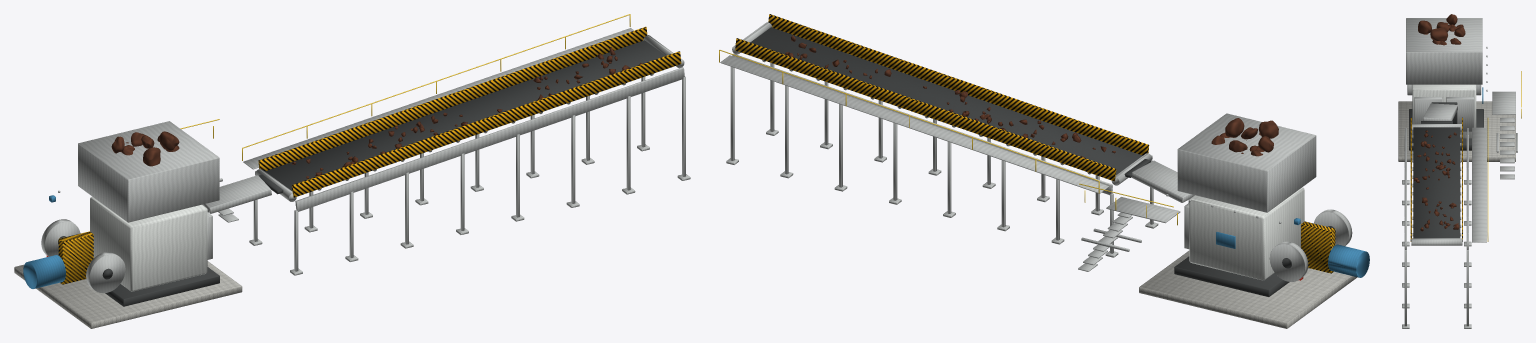
Rendered from Level2_OreCrusher_IndustrialUV_v3.fbx.
3 views of the same model, side by side, from view 1: azimuth 30°, elevation 25°; view 2: azimuth 150°, elevation 25°; view 3: azimuth 270°, elevation 25° (orthographic). The views are drawn at different scales.
Visible parts, largest first — view 1: L2_V2_SuperJumbo_Flared_Ore_Hopper, L2_V2_Wide_Inclined_Rubber_Ore_Belt, L2_V2_Rounded_Primary_Crusher_Body, L2_V2_Right_Tall_Yellow_Side_Skirt, L2_V2_Left_Tall_Yellow_Side_Skirt, L2_V2_Right_Deep_Main_Truss, L2_V2_Jumbo_Concrete_Service_Pad, L2_V2_Wide_Maint_Catwalk, L2_V2_Jumbo_Black_Skid_Base, L2_V2_Curved_Style_Hazard_Belt_Guard, L2_V2_Heavy_Discharge_Chute_To_Belt, L2_V2_Jumbo_Flywheel_B_Smooth (+3 smaller); view 2: L2_V2_SuperJumbo_Flared_Ore_Hopper, L2_V2_Wide_Inclined_Rubber_Ore_Belt, L2_V2_Rounded_Primary_Crusher_Body, L2_V2_Jumbo_Concrete_Service_Pad, L2_V2_Left_Tall_Yellow_Side_Skirt, L2_V2_Right_Tall_Yellow_Side_Skirt, L2_V2_Wide_Maint_Catwalk, L2_V2_Jumbo_Black_Skid_Base, L2_V2_Curved_Style_Hazard_Belt_Guard, L2_V2_Left_Deep_Main_Truss, L2_V2_Heavy_Discharge_Chute_To_Belt, L2_V2_Jumbo_Flywheel_A_Smooth (+5 smaller); view 3: L2_V2_Wide_Inclined_Rubber_Ore_Belt, L2_V2_SuperJumbo_Flared_Ore_Hopper, L2_V2_Jumbo_Concrete_Service_Pad, L2_V2_Wide_Maint_Catwalk, L2_V2_Rounded_Primary_Crusher_Body, L2_V2_Left_Smooth_Jaw_Liner, L2_V2_Jumbo_Service_Platform_Grating, L2_V2_Heavy_Discharge_Chute_To_Belt, L2_V2_Right_Smooth_Jaw_Liner, L2_V2_Smooth_Head_Pulley, L2_V2_Jumbo_Black_Skid_Base, L2_V2_Right_Tall_Yellow_Side_Skirt (+11 smaller).
Boxes of the visible parts, x1,y1,x2,y2 form: L2_V2_SuperJumbo_Flared_Ore_Hopper: (78, 121, 219, 222); L2_V2_Wide_Inclined_Rubber_Ore_Belt: (265, 40, 665, 191); L2_V2_Rounded_Primary_Crusher_Body: (90, 196, 207, 291); L2_V2_Right_Tall_Yellow_Side_Skirt: (292, 51, 681, 197); L2_V2_Left_Tall_Yellow_Side_Skirt: (258, 26, 647, 171); L2_V2_Right_Deep_Main_Truss: (295, 67, 684, 211); L2_V2_Jumbo_Concrete_Service_Pad: (14, 261, 242, 328); L2_V2_Wide_Maint_Catwalk: (243, 28, 633, 169); L2_V2_Jumbo_Black_Skid_Base: (105, 267, 219, 306); L2_V2_Curved_Style_Hazard_Belt_Guard: (58, 231, 93, 284); L2_V2_Heavy_Discharge_Chute_To_Belt: (202, 175, 271, 213); L2_V2_Jumbo_Flywheel_B_Smooth: (86, 252, 125, 293); L2_V2_SuperJumbo_Flared_Ore_Hopper: (1177, 113, 1316, 212); L2_V2_Wide_Inclined_Rubber_Ore_Belt: (750, 27, 1142, 175); L2_V2_Rounded_Primary_Crusher_Body: (1189, 187, 1304, 280); L2_V2_Jumbo_Concrete_Service_Pad: (1139, 251, 1356, 328); L2_V2_Left_Tall_Yellow_Side_Skirt: (735, 38, 1116, 181); L2_V2_Right_Tall_Yellow_Side_Skirt: (768, 14, 1149, 155); L2_V2_Wide_Maint_Catwalk: (720, 55, 1109, 193); L2_V2_Jumbo_Black_Skid_Base: (1174, 256, 1308, 296); L2_V2_Curved_Style_Hazard_Belt_Guard: (1301, 221, 1335, 273); L2_V2_Left_Deep_Main_Truss: (732, 53, 1112, 195); L2_V2_Heavy_Discharge_Chute_To_Belt: (1131, 160, 1194, 202); L2_V2_Jumbo_Flywheel_A_Smooth: (1269, 241, 1308, 281); L2_V2_Wide_Inclined_Rubber_Ore_Belt: (1413, 127, 1460, 238); L2_V2_SuperJumbo_Flared_Ore_Hopper: (1406, 18, 1482, 84); L2_V2_Jumbo_Concrete_Service_Pad: (1398, 101, 1515, 161); L2_V2_Wide_Maint_Catwalk: (1472, 127, 1486, 242); L2_V2_Rounded_Primary_Crusher_Body: (1412, 84, 1476, 138); L2_V2_Left_Smooth_Jaw_Liner: (1446, 97, 1474, 131); L2_V2_Jumbo_Service_Platform_Grating: (1492, 91, 1515, 114); L2_V2_Heavy_Discharge_Chute_To_Belt: (1423, 103, 1457, 120); L2_V2_Right_Smooth_Jaw_Liner: (1414, 97, 1442, 123); L2_V2_Smooth_Head_Pulley: (1411, 238, 1462, 245); L2_V2_Jumbo_Black_Skid_Base: (1409, 109, 1483, 150); L2_V2_Right_Tall_Yellow_Side_Skirt: (1410, 117, 1411, 241).
Bounding box in the file's own units: 52.25 × 11.93 × 11.53.
10 materials, 10 textured.
